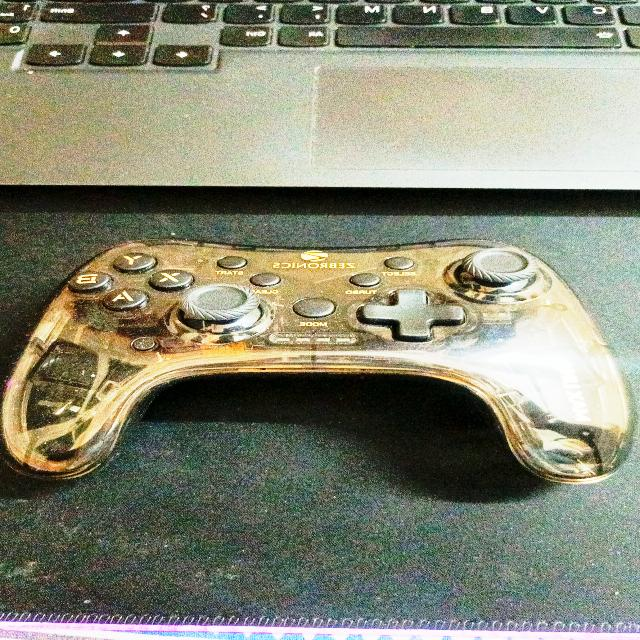gamepad: (0, 236, 634, 486)
